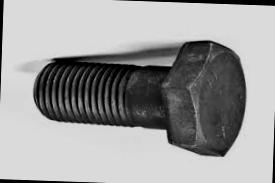screw: (160, 38, 248, 157)
